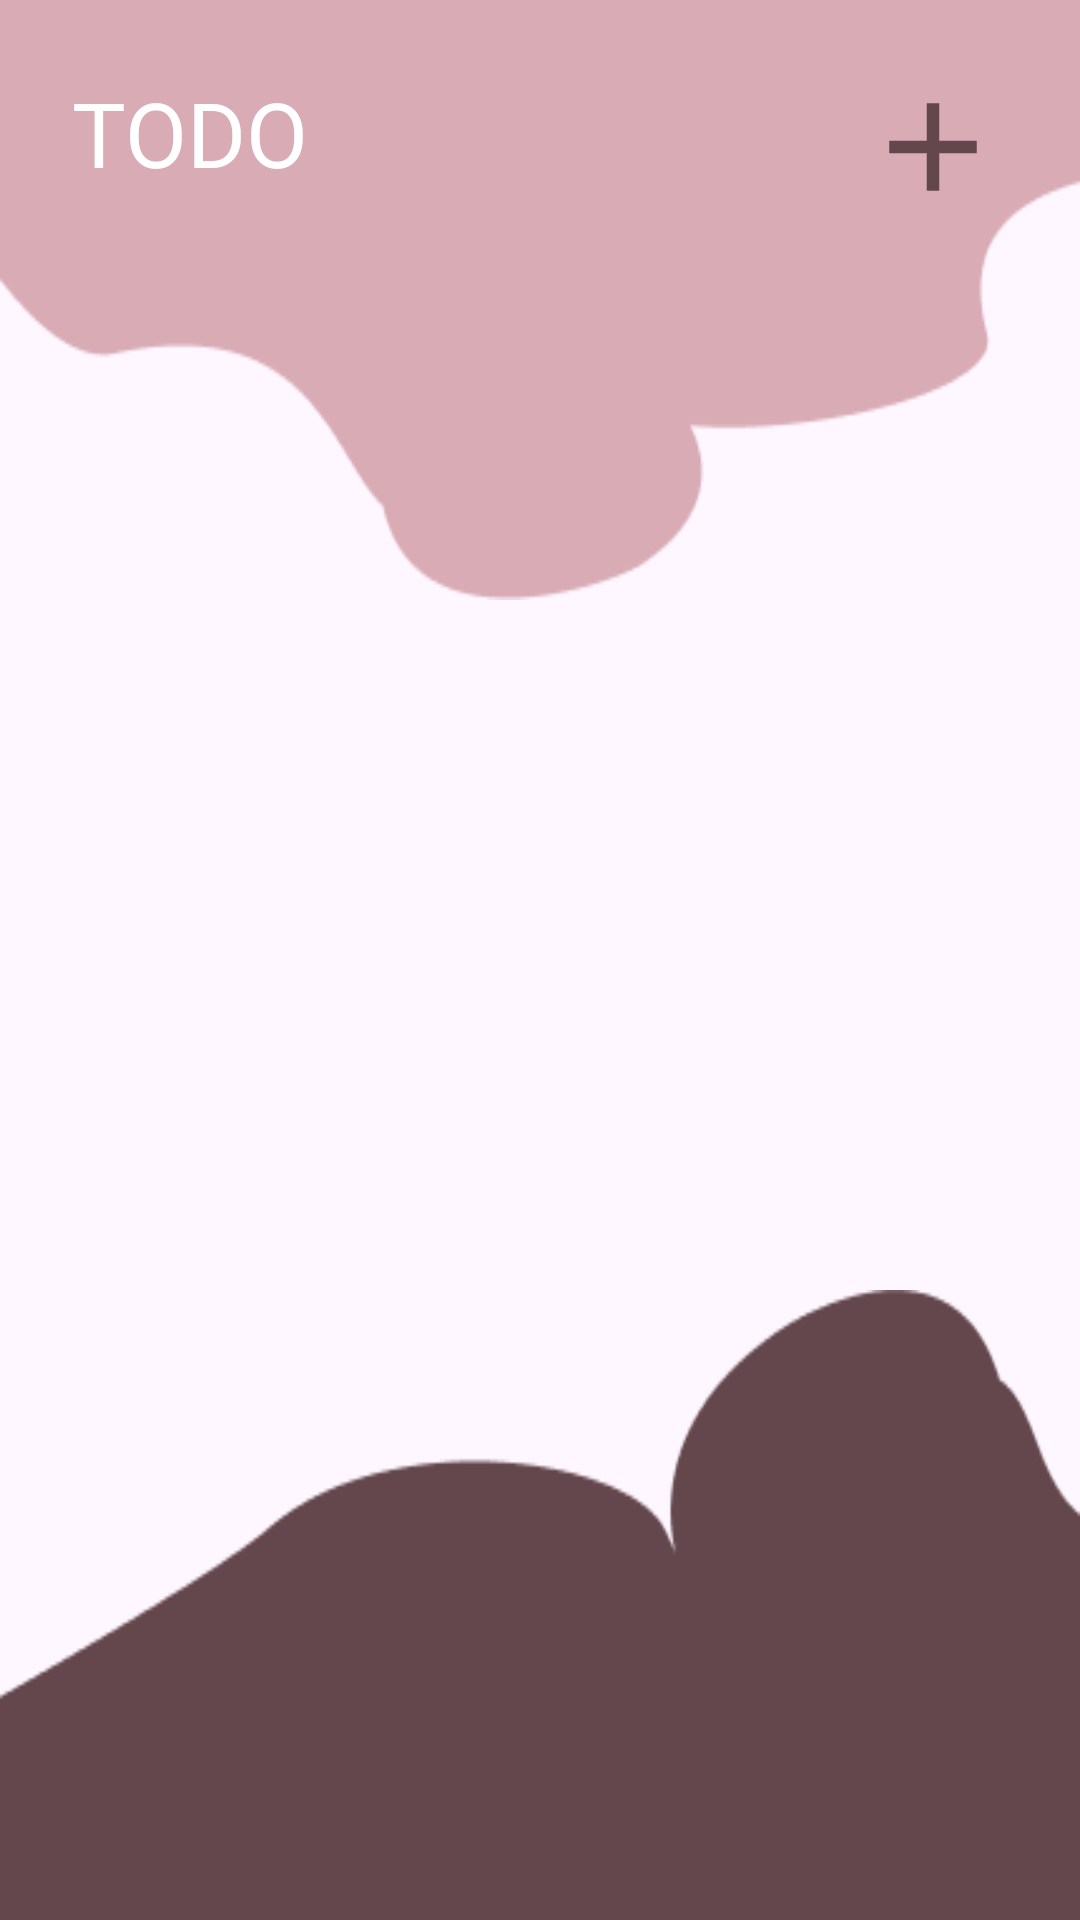

Icons on this 1080 x 1920 Android screen, each with the point to tap as [x,y]:
add: [933,147]
